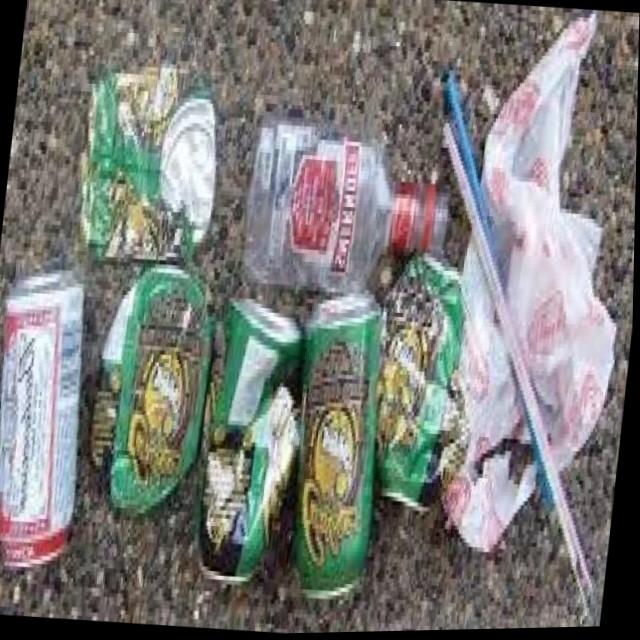clothes: (188, 281, 323, 590), (80, 251, 224, 539), (282, 290, 396, 592), (352, 244, 475, 522), (0, 269, 108, 572), (76, 49, 228, 262)
foam box: (230, 113, 468, 312)
metal: (442, 17, 640, 550)
